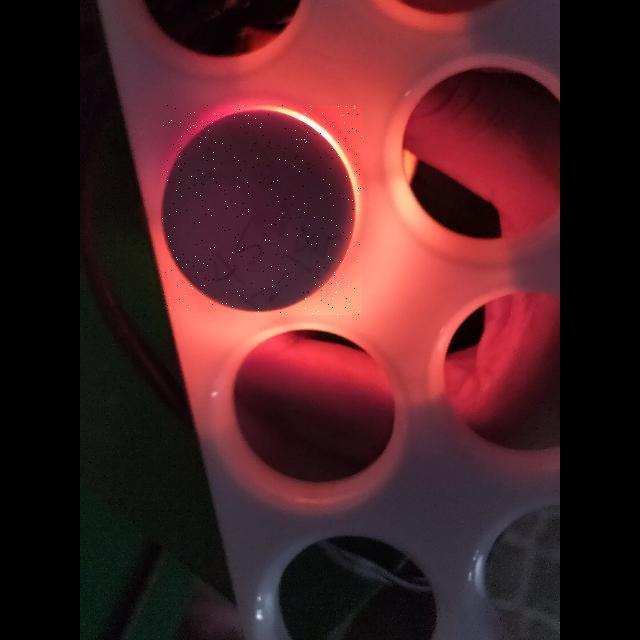Fertile: (162, 105, 362, 315)
